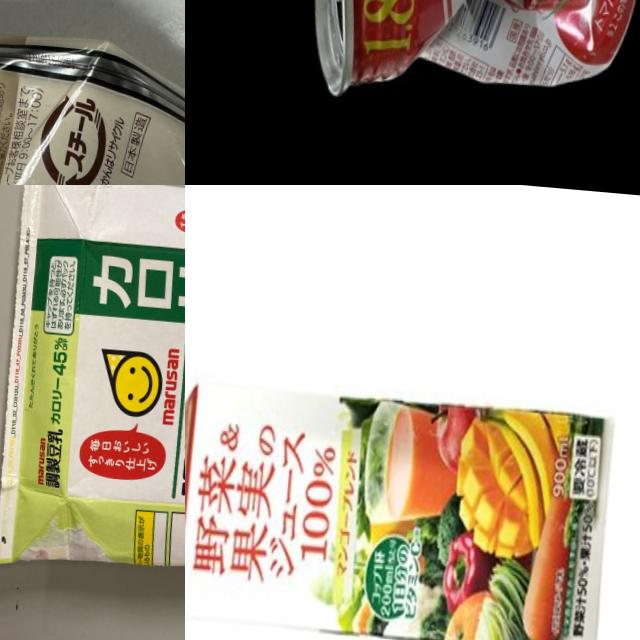Aluminium Foil: (185, 371, 615, 640), (0, 185, 185, 614)
Can: (280, 0, 640, 125), (0, 15, 185, 185)
